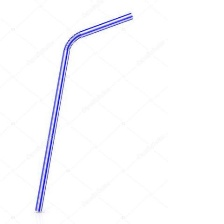drinking_straw: (28, 8, 138, 216)
